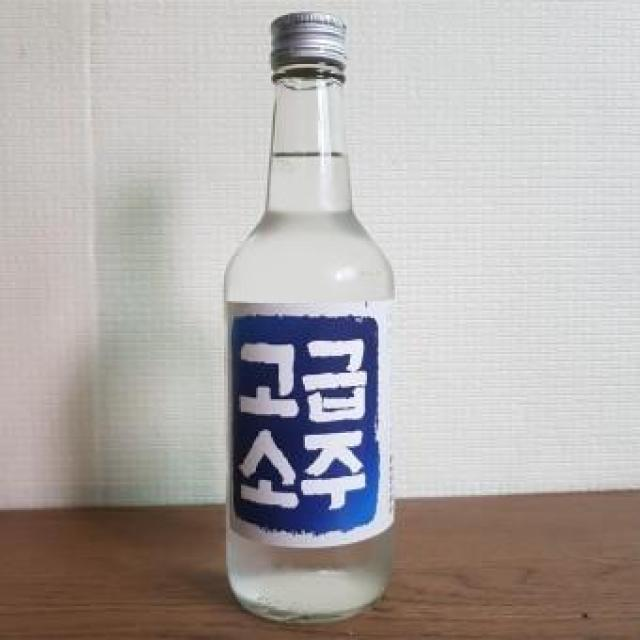soju-bottle: (222, 11, 397, 627)
